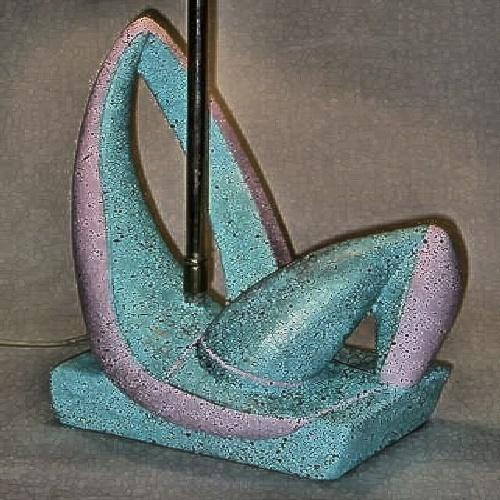lamp: (73, 27, 440, 462)
